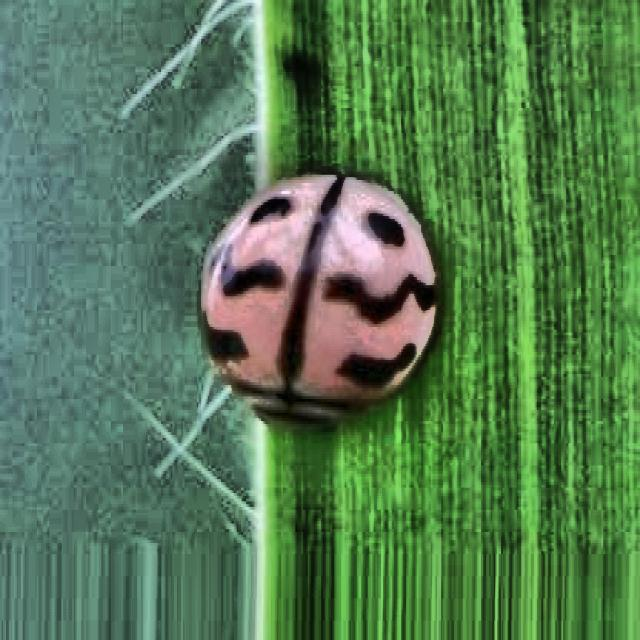Asian-Lady-beetle: (183, 131, 460, 465)
